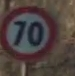limite 70: (0, 4, 56, 62)
